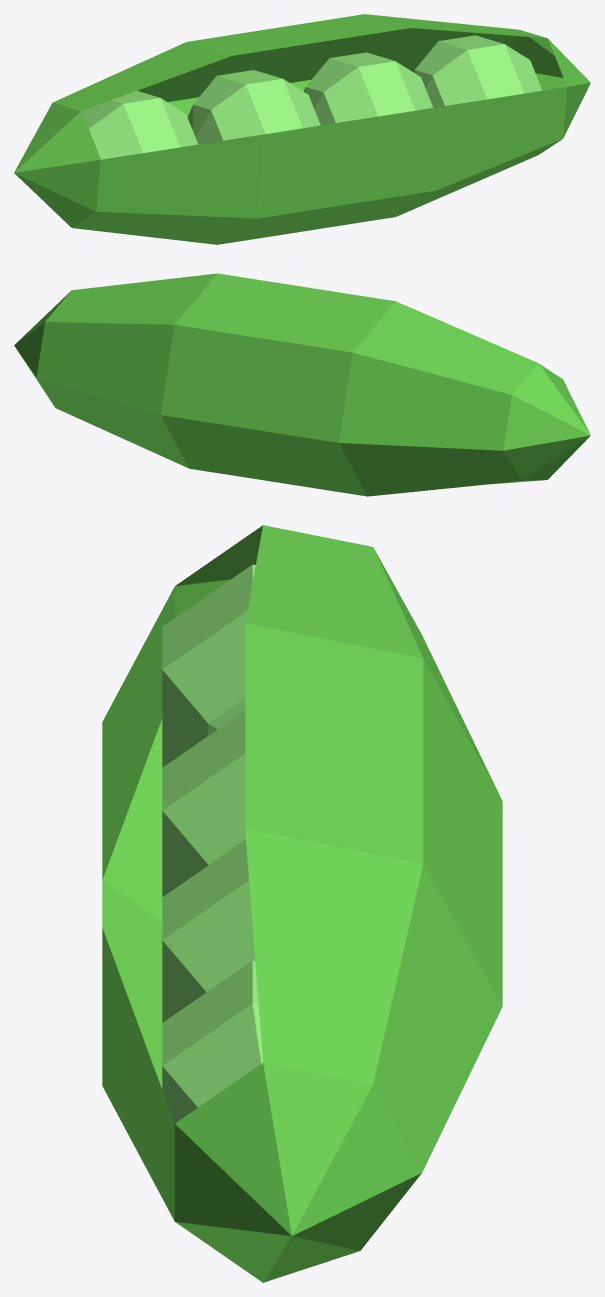
File: guisante.fbx
3 views of the same model, one above another, from view 1: azimuth 30°, elevation 25°; view 2: azimuth 150°, elevation 25°; view 3: azimuth 270°, elevation 25° (orthographic). The views are drawn at different scales.
Visible parts, largest first — view 1: Sphere; view 2: Sphere; view 3: Sphere.
Part boxes in pixels (bbox=[...]): Sphere: bbox=[14, 14, 590, 244]; Sphere: bbox=[14, 273, 590, 496]; Sphere: bbox=[102, 525, 502, 1282].
Bounding box in the file's own units: 214 × 71.38 × 64.4.
